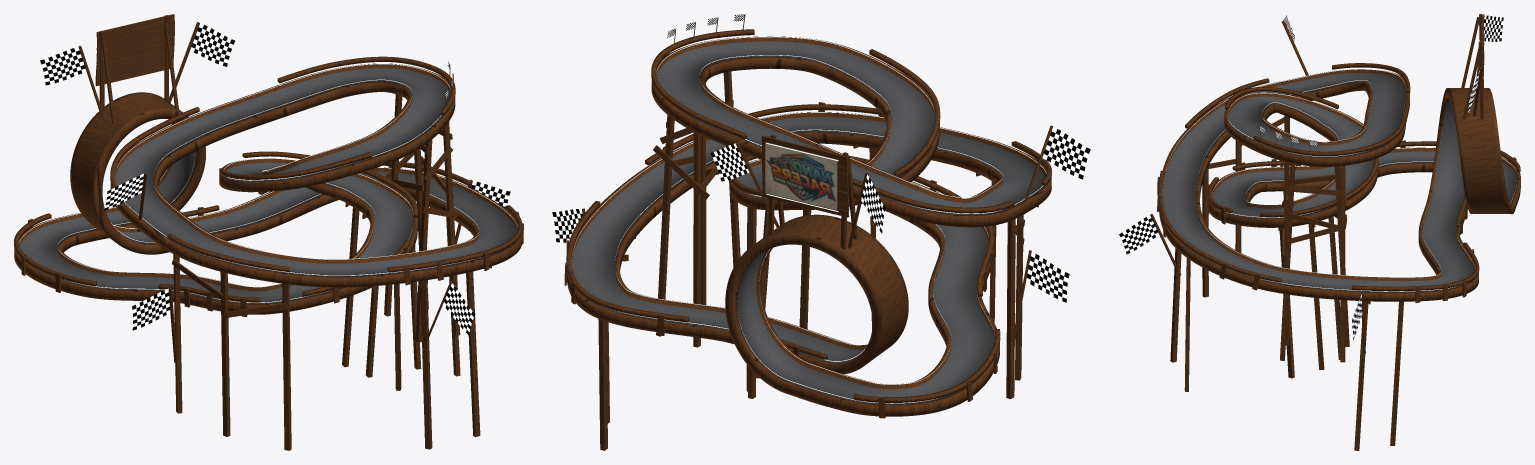
File: trackkart5.glb
3 views of the same model, side by side, from view 1: azimuth 30°, elevation 25°; view 2: azimuth 150°, elevation 25°; view 3: azimuth 270°, elevation 25° (orthographic). The views are drawn at different scales.
Parts seen in each view (by area): view 1: SPLINE_RIGHT_EDGE.002, SPLINE_RIGHT_EDGE.007, SPLINE_RIGHT_EDGE.005, Cube.055, SPLINE_RIGHT_EDGE.004, Cube.061, Cube.062, SPLINE_RIGHT_EDGE.006, Cube.021, Cube.019, Cube.017, Cube.067 (+13 smaller); view 2: SPLINE_RIGHT_EDGE.007, SPLINE_RIGHT_EDGE.002, SPLINE_RIGHT_EDGE.005, Gemini_Generated_Image_jnkqjhjnkqjhjnkq, Cube.055, Cube.058, Cube.067, Cube.015, Cube.006, Cube.001, SPLINE_RIGHT_EDGE.004, SPLINE_RIGHT_EDGE.006 (+9 smaller); view 3: SPLINE_RIGHT_EDGE.007, SPLINE_RIGHT_EDGE.002, SPLINE_RIGHT_EDGE.005, Cube.059, Cube.001, Cube.002, SPLINE_RIGHT_EDGE.004, Cube.012, Cube.028, Cube.021, Cube.014, SPLINE_RIGHT_EDGE.006 (+9 smaller).
Part boxes in pixels (x1,y1,x2,y2): SPLINE_RIGHT_EDGE.002: (14, 63, 522, 314); SPLINE_RIGHT_EDGE.007: (19, 68, 517, 304); SPLINE_RIGHT_EDGE.005: (14, 56, 522, 302); Cube.055: (95, 14, 174, 115); SPLINE_RIGHT_EDGE.004: (19, 63, 517, 302); Cube.061: (167, 22, 234, 104); Cube.062: (40, 46, 104, 119); SPLINE_RIGHT_EDGE.006: (58, 79, 478, 287); Cube.021: (420, 280, 432, 449); Cube.019: (282, 283, 291, 450); Cube.017: (220, 272, 230, 436); Cube.067: (132, 287, 176, 363); SPLINE_RIGHT_EDGE.007: (571, 41, 1045, 404); SPLINE_RIGHT_EDGE.002: (567, 36, 1051, 416); SPLINE_RIGHT_EDGE.005: (566, 29, 1051, 402); Gemini_Generated_Image_jnkqjhjnkqjhjnkq: (765, 142, 837, 210); Cube.055: (761, 134, 849, 249); Cube.058: (1018, 125, 1090, 221); Cube.067: (1012, 250, 1069, 342); Cube.015: (1006, 219, 1015, 399); Cube.006: (693, 132, 701, 347); Cube.001: (656, 115, 674, 336); SPLINE_RIGHT_EDGE.004: (573, 36, 1046, 403); SPLINE_RIGHT_EDGE.006: (615, 55, 1002, 384); SPLINE_RIGHT_EDGE.007: (1162, 72, 1517, 292); SPLINE_RIGHT_EDGE.002: (1159, 69, 1520, 301); SPLINE_RIGHT_EDGE.005: (1158, 63, 1520, 291); Cube.059: (1119, 214, 1181, 275); Cube.001: (1340, 165, 1345, 362); Cube.002: (1280, 163, 1295, 360); SPLINE_RIGHT_EDGE.004: (1163, 69, 1516, 291); Cube.012: (1390, 301, 1403, 445); Cube.028: (1354, 301, 1368, 450); Cube.021: (1170, 248, 1181, 362); Cube.014: (1308, 223, 1324, 369); SPLINE_RIGHT_EDGE.006: (1200, 80, 1440, 277).
Bounding box in the file's own units: 31.76 × 25.09 × 28.76.
6 materials, 3 textured.
